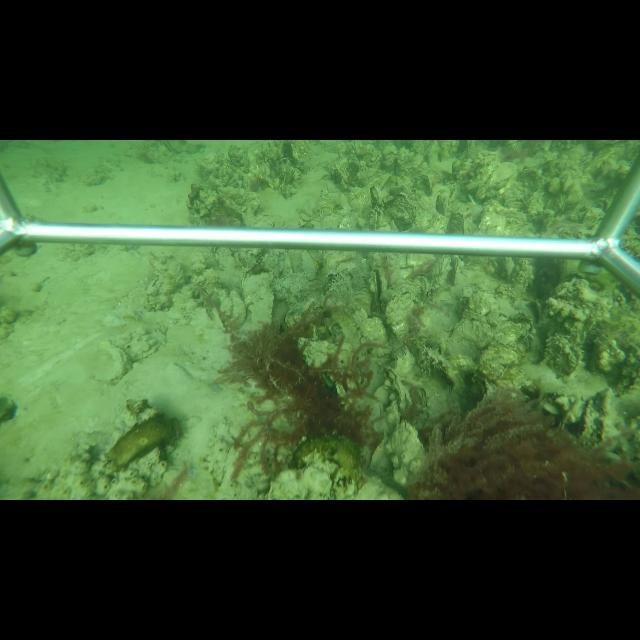Oyster-Closed: (385, 417, 427, 486), (239, 263, 277, 332), (91, 339, 135, 385), (542, 333, 583, 381), (385, 289, 419, 343), (447, 317, 497, 351), (381, 365, 412, 412), (132, 325, 167, 361), (230, 289, 248, 330), (450, 255, 463, 284)
Oyster-Open: (366, 430, 388, 468), (369, 270, 388, 309)
